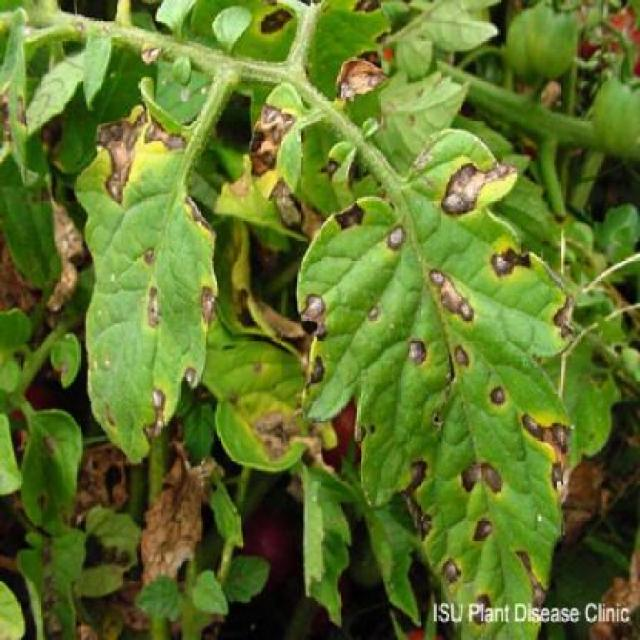Septoria leaf spot: (274, 143, 578, 602), (60, 75, 226, 511), (208, 328, 340, 488), (232, 101, 336, 294)
